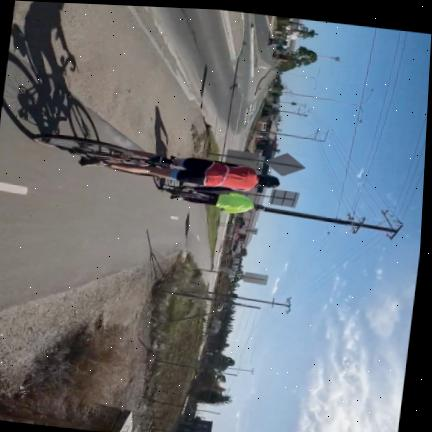Bike_Lane: (0, 56, 211, 310)
